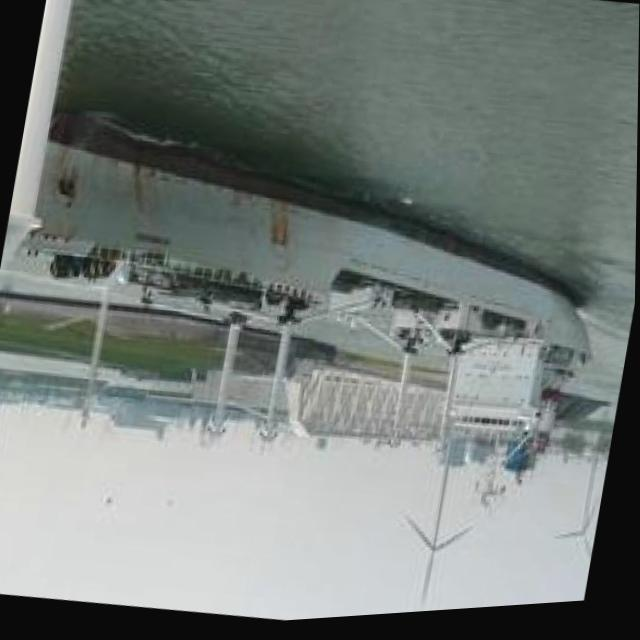ship2: (20, 114, 590, 448)
